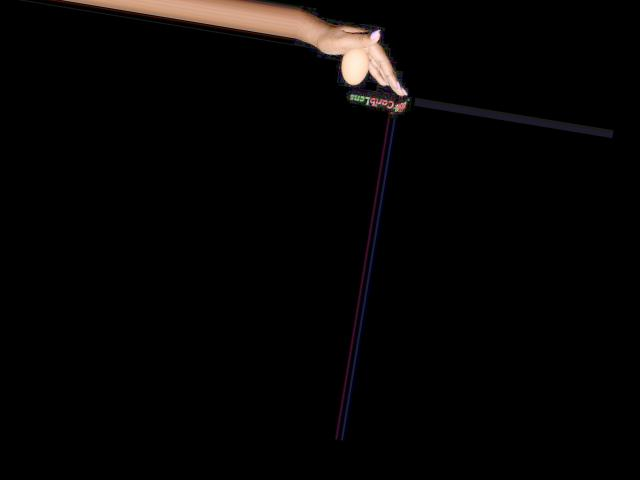egg: (337, 46, 371, 87)
